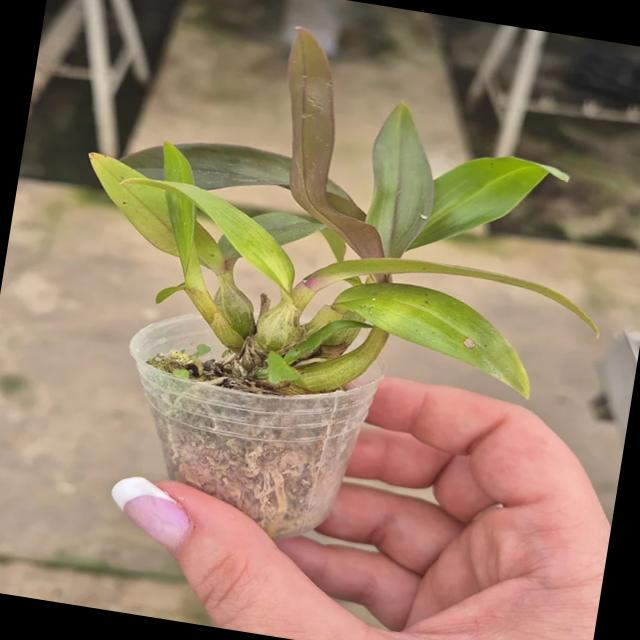leaf: (92, 164, 299, 291), (291, 257, 601, 337), (335, 280, 532, 392), (409, 156, 562, 249), (369, 102, 436, 255), (287, 26, 337, 205), (254, 211, 326, 245), (154, 282, 188, 305)
plant: (18, 0, 640, 589)
pot: (93, 279, 401, 563)
stem: (288, 29, 383, 257), (166, 186, 253, 348), (298, 329, 388, 392), (177, 143, 291, 189), (215, 262, 254, 339), (254, 292, 303, 353), (123, 147, 164, 180)
